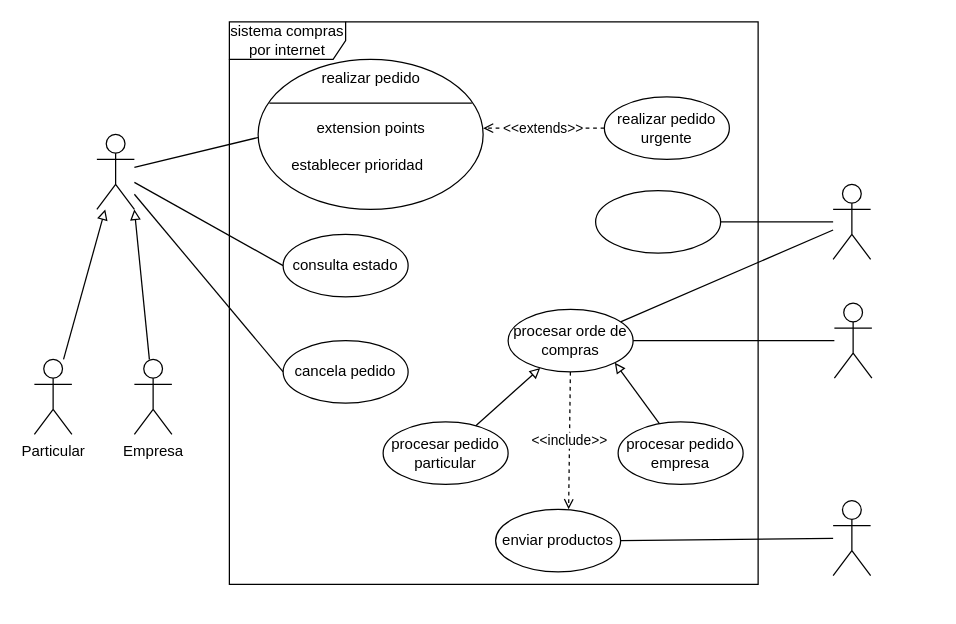
Image size: 956x624. Some labels were removed from this diagram. Here are the shapes that lost their labels. From the top down, the centre of each, then its label:
point 115,171: Cliente
point 657,221: publica catálogo productos
point 851,221: Empleado
point 852,340: Empresa suministradora
point 851,537: Empresa de mensajería
